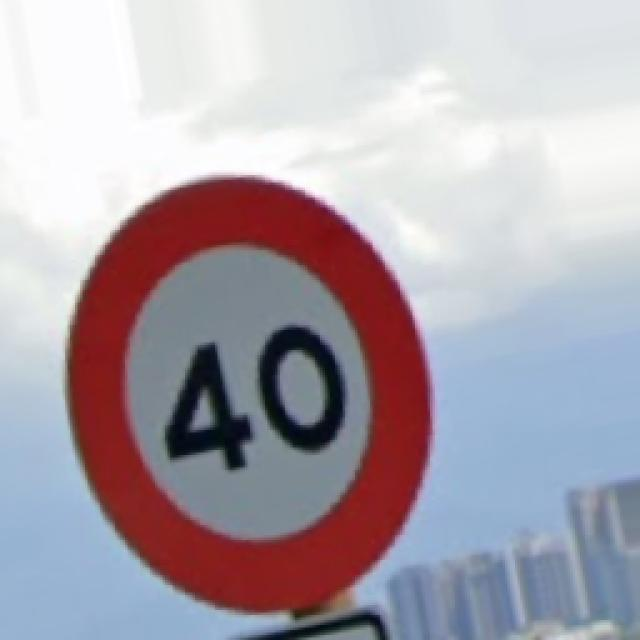Speed Limit -40-: (68, 178, 425, 608)
